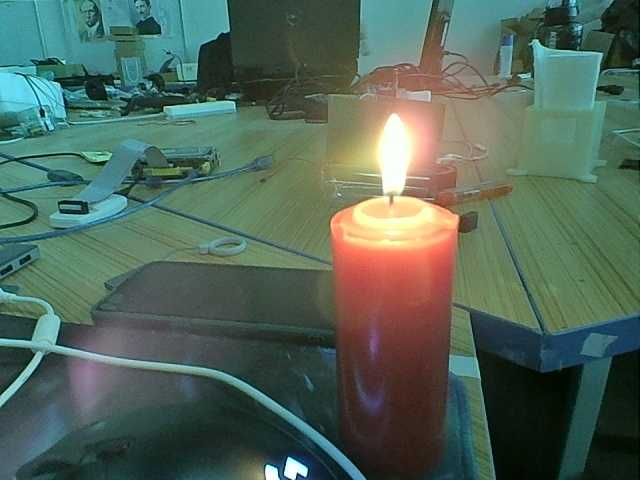candle: (330, 192, 463, 467)
fire: (363, 107, 426, 216)
